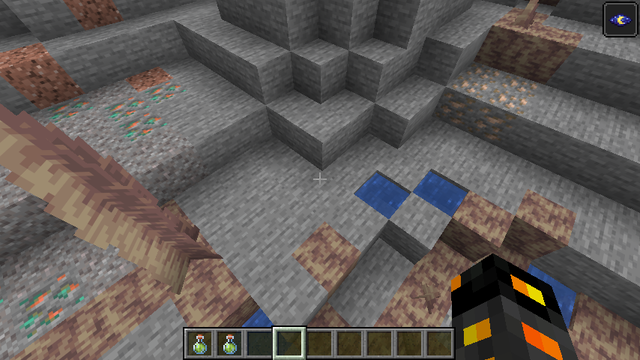copper: (46, 77, 190, 141), (14, 266, 88, 336)
iron: (446, 62, 540, 144)
